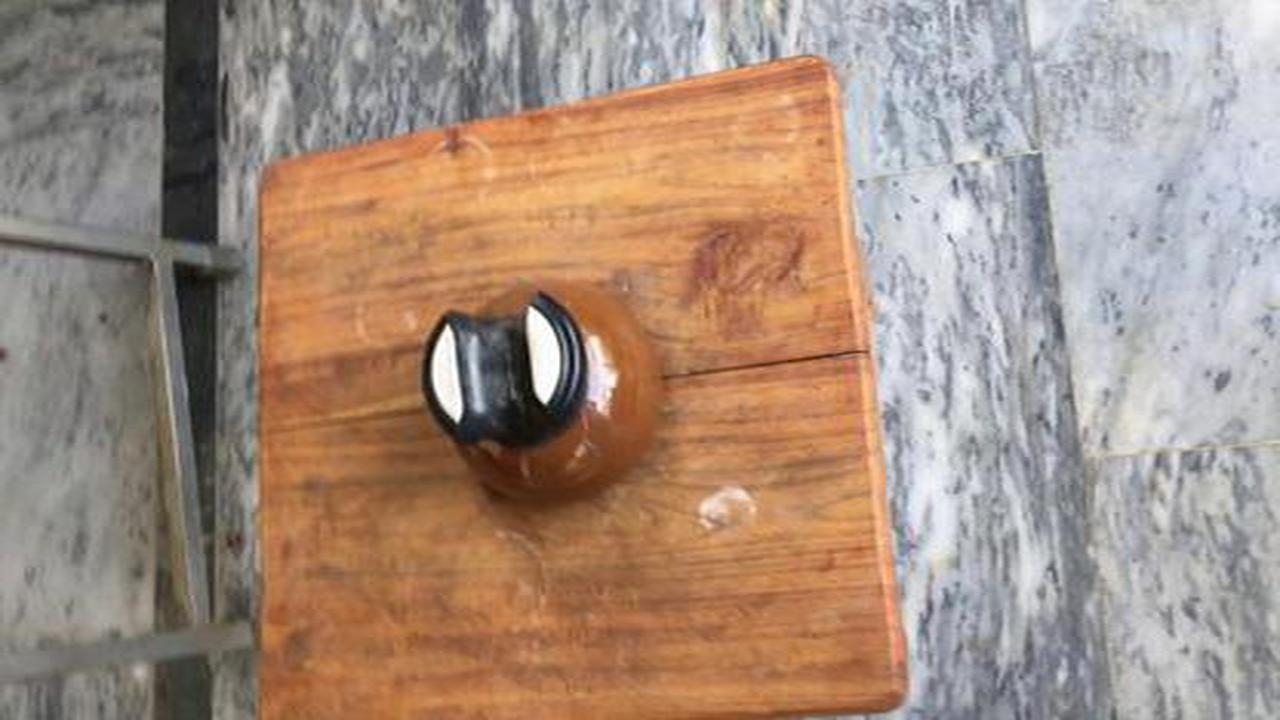insulator_pin: (391, 267, 693, 527)
